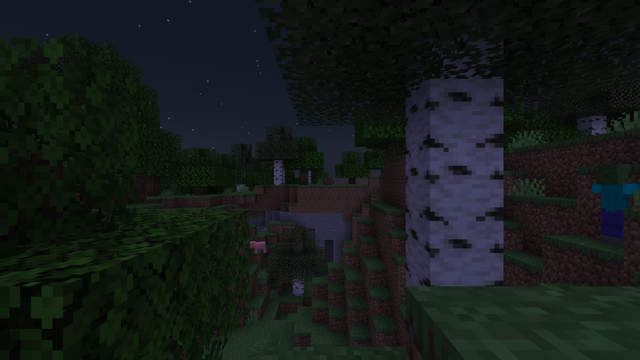cochons: (253, 241, 265, 253)
zombies: (592, 166, 630, 246)
